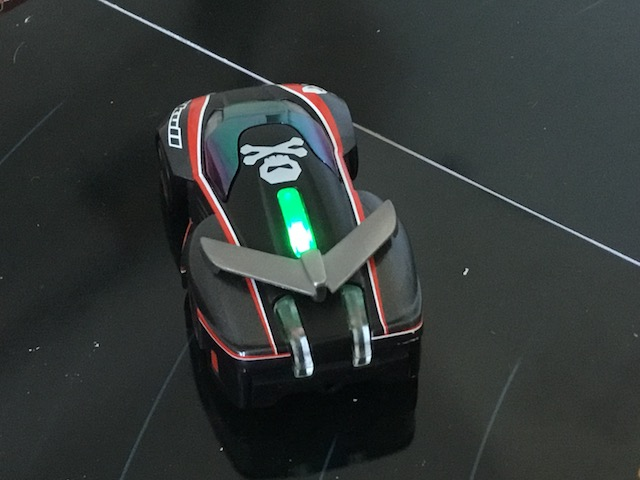car-red: (150, 77, 430, 400)
